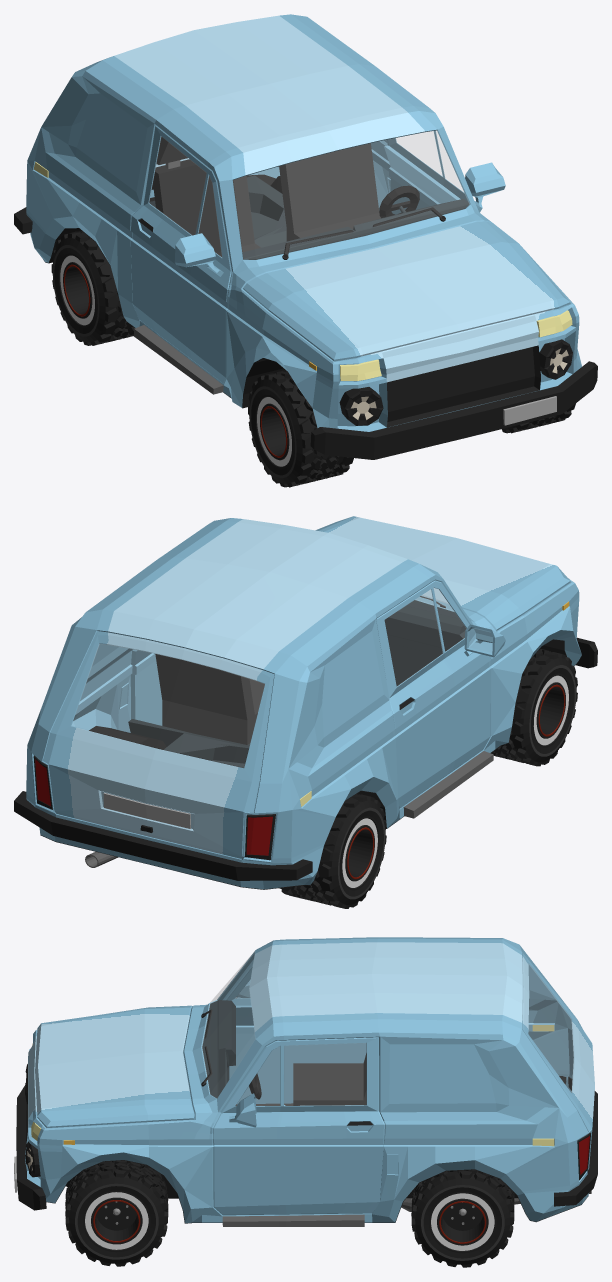
Rendered from car6.glb.
The picture shows the model from 3 angles, top to bottom: view 1: azimuth 30°, elevation 25°; view 2: azimuth 150°, elevation 25°; view 3: azimuth 270°, elevation 25°; orthographic projection. The views are drawn at different scales.
Visible parts, largest first — view 1: Body.021, hood.007, WindowFront.007, Seats.008, Door.014, Bumper.012, Wheel.028, Wheel.026, WindowDoor.015, Door.015, Panel.014, Light.044 (+8 smaller); view 2: Body.021, Trunk.007, WindowBack.006, Door.014, hood.007, Seats.008, Wheel.026, Wheel.028, Bumper.013, WindowDoor.015, Panel.014, Floor.023 (+7 smaller); view 3: Body.021, Door.015, hood.007, Wheel.028, Wheel.026, WindowDoor.016, Door.014, WindowFront.007, Seats.008, Trunk.007, WindowBack.006, Panel.014 (+6 smaller).
Boxes of the visible parts, x1,y1,x2,y2 form: Body.021: [26, 14, 581, 431]; hood.007: [243, 221, 570, 361]; WindowFront.007: [233, 131, 469, 259]; Seats.008: [153, 136, 380, 257]; Door.014: [130, 125, 231, 383]; Bumper.012: [310, 361, 597, 459]; Wheel.028: [248, 370, 575, 487]; Wheel.026: [51, 230, 134, 345]; WindowDoor.015: [149, 137, 221, 256]; Door.015: [384, 130, 468, 214]; Panel.014: [242, 199, 469, 259]; Light.044: [339, 339, 572, 425]; Body.021: [26, 518, 581, 889]; Trunk.007: [42, 631, 274, 858]; WindowBack.006: [72, 644, 264, 767]; Door.014: [376, 580, 490, 808]; hood.007: [315, 516, 570, 630]; Seats.008: [155, 654, 264, 744]; Wheel.026: [279, 793, 386, 908]; Wheel.028: [491, 648, 577, 766]; Bumper.013: [14, 791, 312, 880]; WindowDoor.015: [385, 588, 466, 685]; Panel.014: [384, 600, 466, 686]; Floor.023: [128, 719, 250, 768]; Body.021: [25, 937, 592, 1223]; Door.015: [213, 1037, 384, 1215]; hood.007: [35, 1005, 194, 1127]; Wheel.028: [65, 1160, 168, 1266]; Wheel.026: [411, 1169, 514, 1267]; WindowDoor.016: [238, 1043, 365, 1105]; Door.014: [226, 966, 366, 1104]; WindowFront.007: [202, 951, 254, 1097]; Seats.008: [293, 1053, 366, 1105]; Trunk.007: [522, 952, 594, 1167]; WindowBack.006: [529, 964, 573, 1092]; Panel.014: [202, 1000, 235, 1098].
Size of the model in its own units: 7.44 by 5.83 by 13.2.
4 materials, 1 textured.
